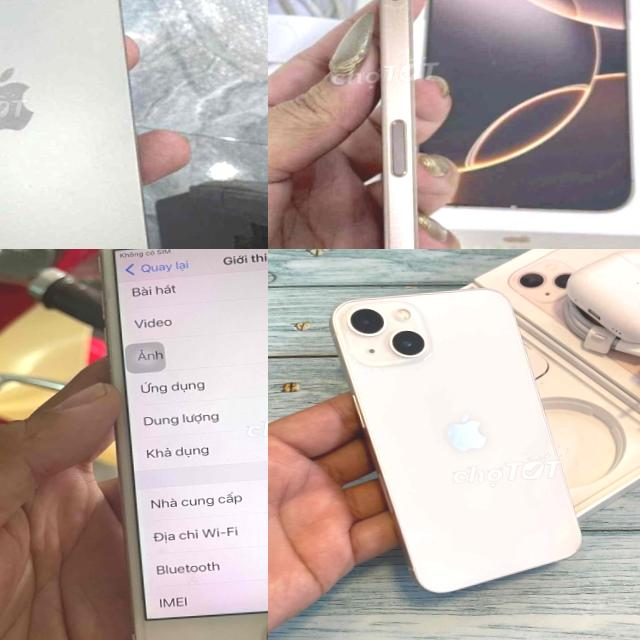gen_12_13: (327, 282, 590, 601)
gen_15: (0, 0, 181, 249)
gen_16: (312, 0, 461, 249)
gen_7_8: (101, 249, 268, 640)
